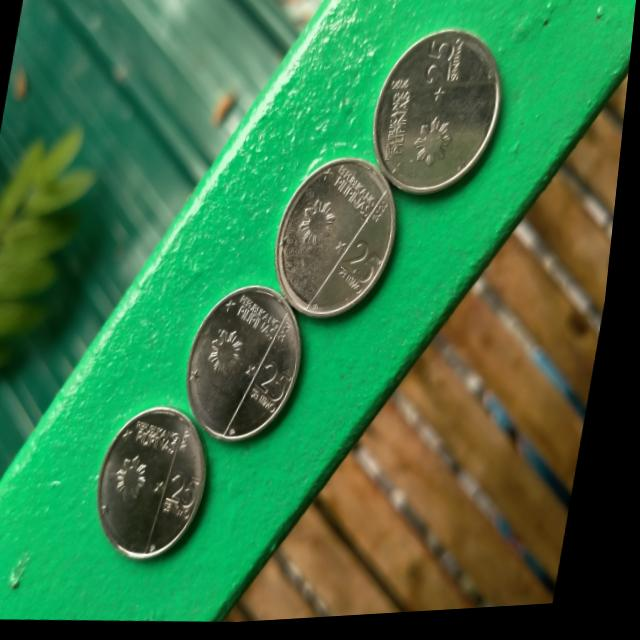25Cent_New_Front: (372, 32, 481, 183), (203, 291, 319, 428)
